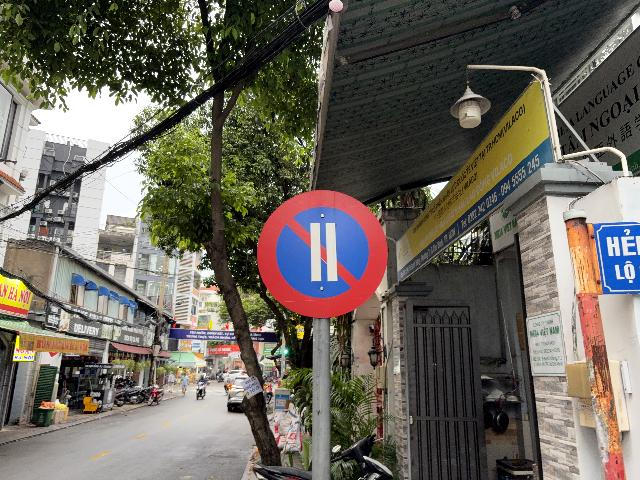cam-do-xe-ngay-chan: (257, 188, 388, 319)
